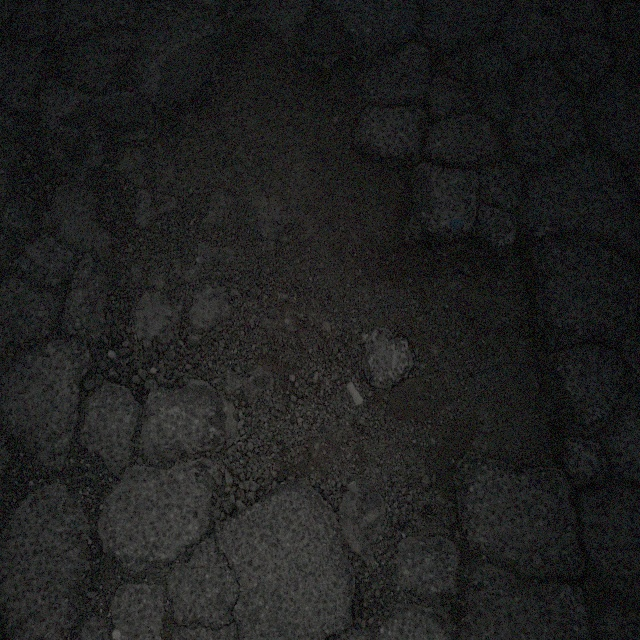pothole: (93, 26, 570, 586)
